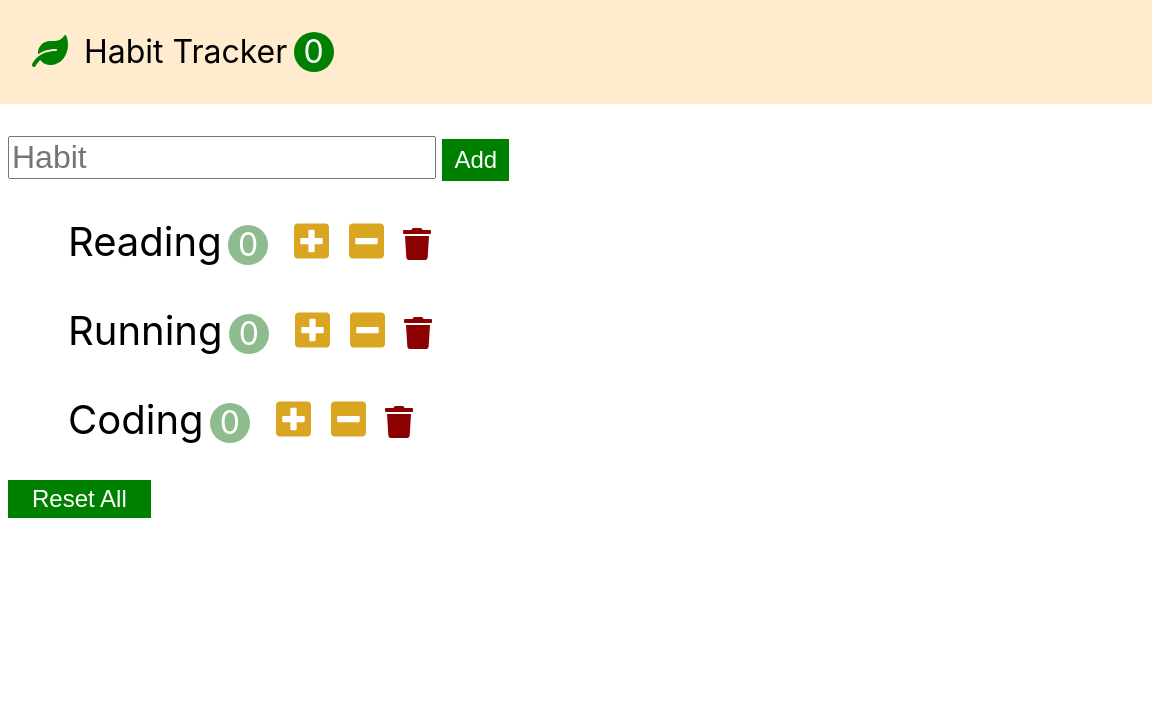
Test: Habit Tracker › increases count
Click the button titled "increase" in the row of "Reading" at x=312, y=243, box [288,219,335,266]
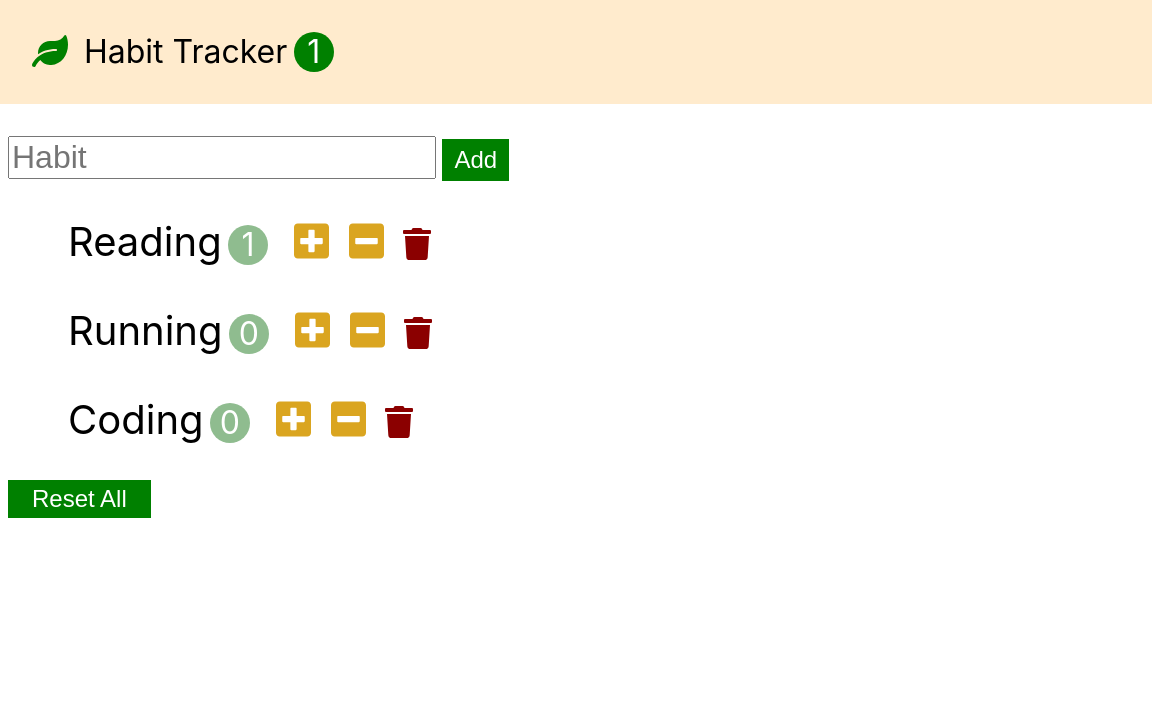
Expected: the text with test id "habit-count" next to "Reading" reads "1", [228,225,268,265]
